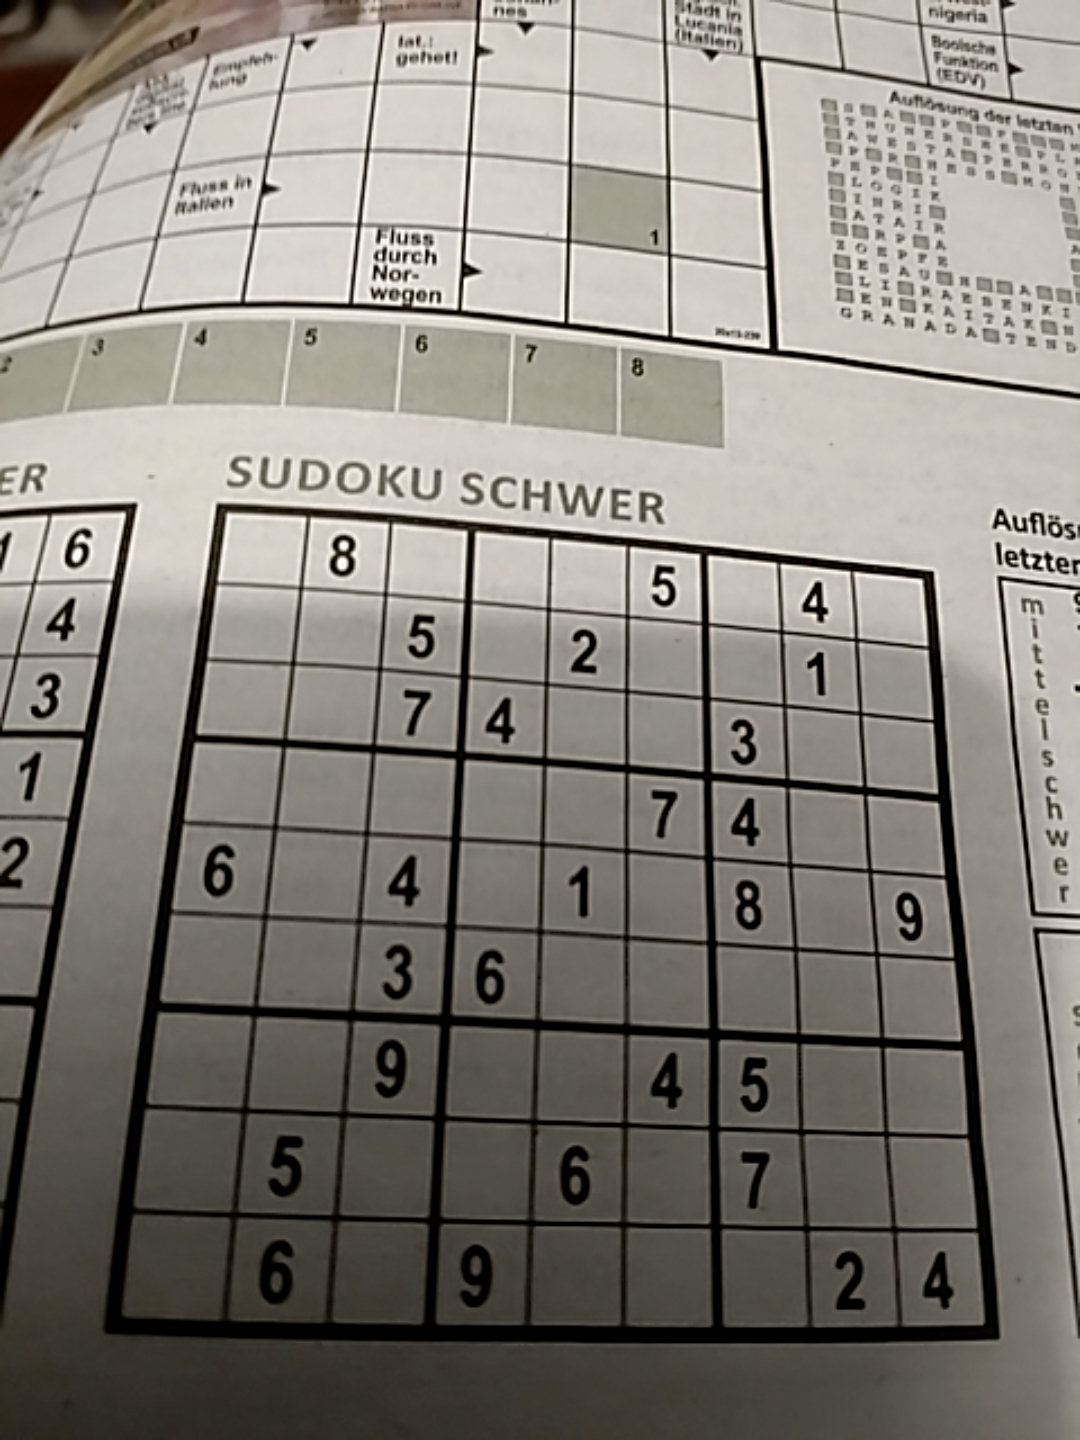sudoku: (107, 502, 1001, 1349)
